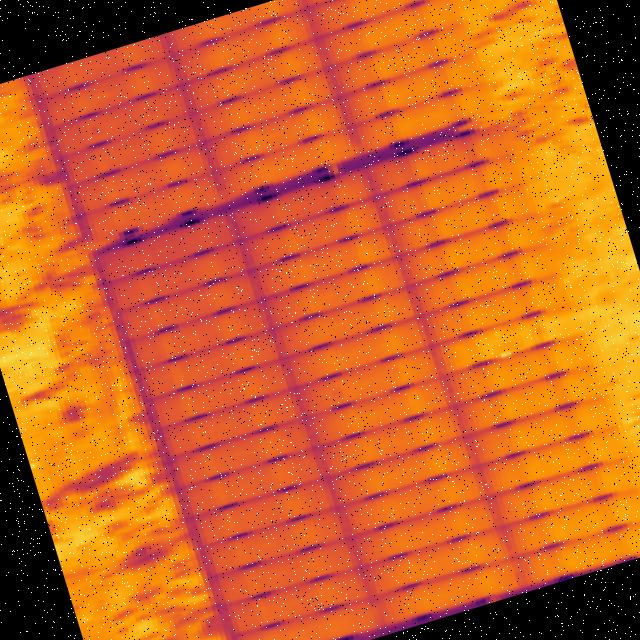Hotspot: (494, 347, 516, 361)
